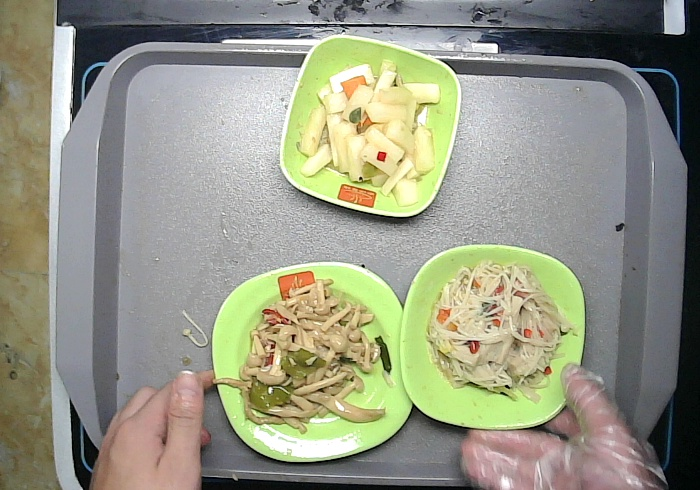SHKJ-Lv_Se_Cai_Die: (395, 241, 588, 432)
SHKJ-Lv_Se_Si_Fang_Cai_Die: (205, 260, 416, 466)
SHKJ-Lv_Se_Xiao_Fang_Die: (277, 34, 463, 226)
